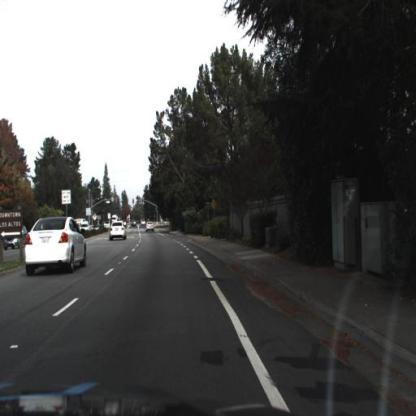car: (16, 214, 89, 282), (109, 218, 129, 241), (145, 217, 160, 238), (130, 219, 139, 231)
